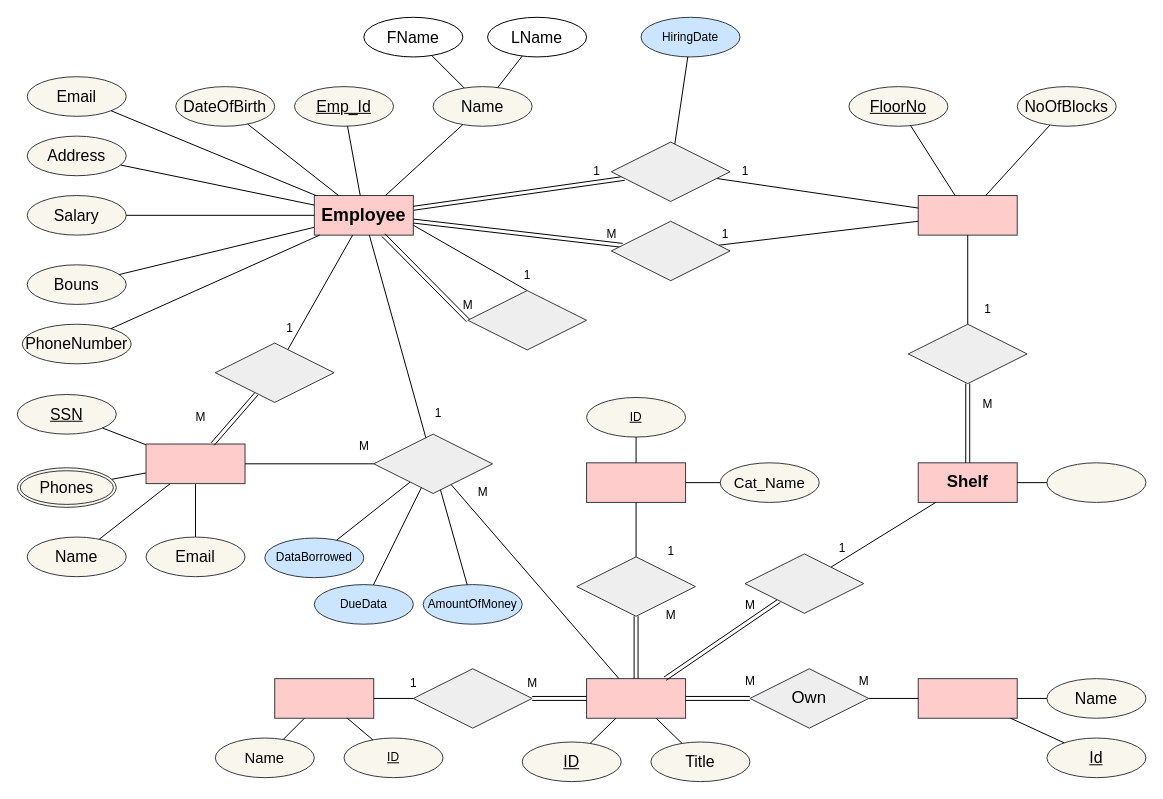
Some shapes in this 1163 by 799 pixel diagram are drawn without their labels. Here are the shapes that lost their labels. From the top down, the box of each, then its label:
(610, 141, 730, 201): Manage
(917, 195, 1017, 235): Floor
(610, 220, 730, 281): Work on
(467, 290, 587, 350): Supervise
(214, 342, 334, 402): Record
(907, 323, 1027, 384): Located
(145, 443, 245, 484): User
(373, 433, 493, 494): Borrow
(586, 462, 686, 502): Category
(1046, 462, 1146, 502): Code
(576, 556, 695, 616): Classified
(744, 553, 864, 613): Assign
(274, 678, 374, 718): Publisher
(412, 668, 532, 728): Publish
(586, 678, 686, 718): Book
(917, 678, 1017, 718): Author
